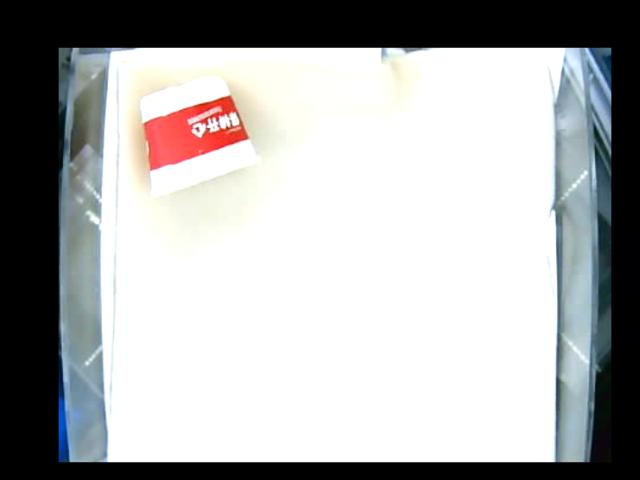Cup: (138, 74, 252, 197)
